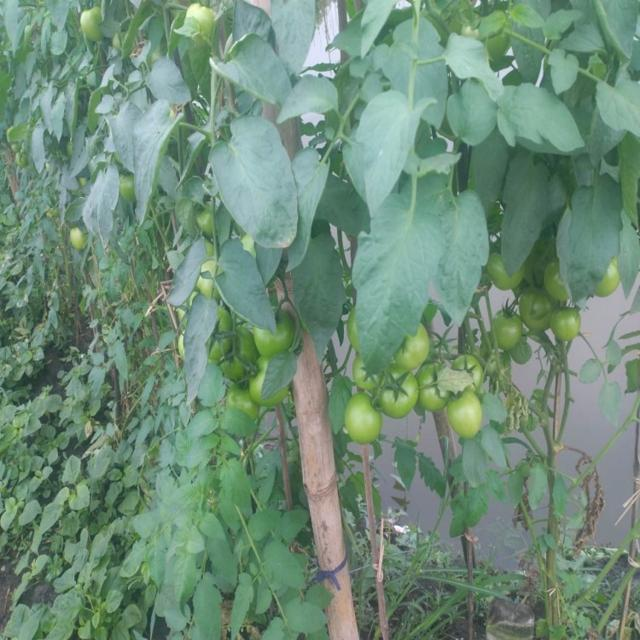tomato: (246, 360, 297, 415), (211, 336, 259, 382), (345, 393, 382, 450), (492, 304, 528, 358), (254, 307, 292, 358), (448, 386, 484, 437), (411, 363, 446, 415), (516, 292, 559, 334), (183, 2, 225, 44), (482, 260, 525, 298), (395, 319, 428, 367), (544, 260, 576, 307), (453, 351, 490, 391), (80, 6, 111, 52), (385, 369, 415, 416), (350, 351, 385, 391), (595, 263, 624, 301), (551, 309, 585, 341), (199, 250, 219, 298), (64, 223, 100, 249), (213, 309, 234, 350), (122, 174, 145, 205), (196, 209, 218, 240)
